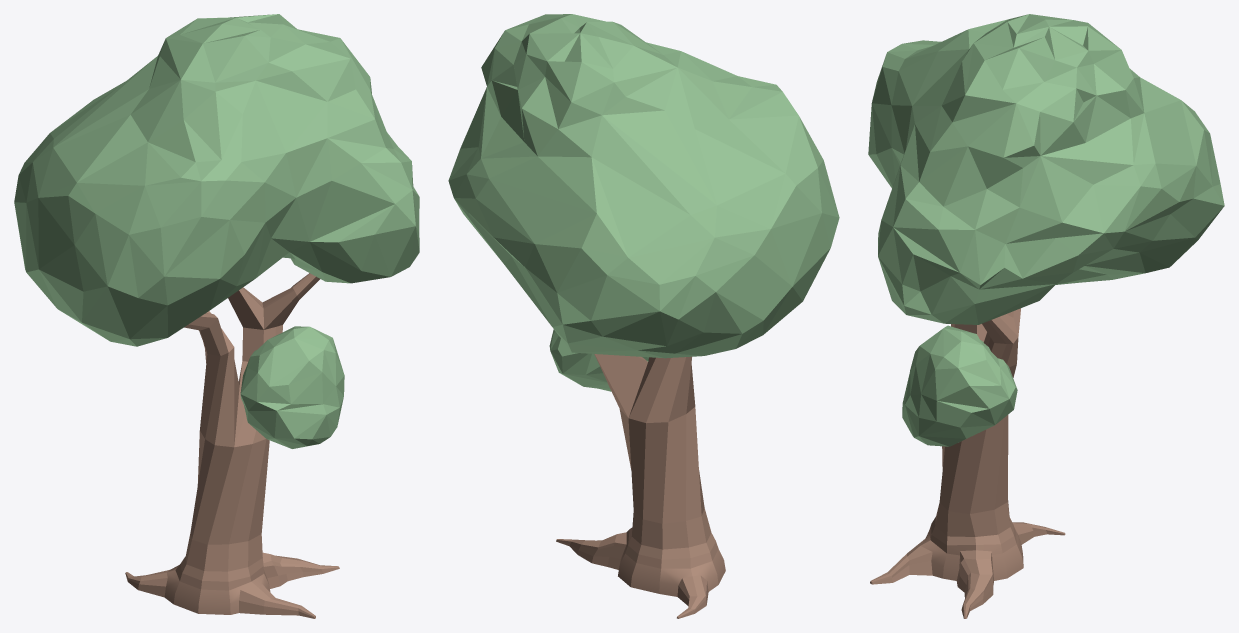
The model's file is Oak_tree.fbx.
3 views of the same model, side by side, from view 1: azimuth 30°, elevation 25°; view 2: azimuth 150°, elevation 25°; view 3: azimuth 270°, elevation 25° (orthographic). The views are drawn at different scales.
Visible parts, largest first — view 1: pSphere1, pasted__pCylinder1, pSphere2; view 2: pSphere1, pasted__pCylinder1, pSphere2; view 3: pSphere1, pasted__pCylinder1, pSphere2.
Boxes of the visible parts, x1=… form: pSphere1: x1=14, y1=14, x2=419, y2=346; pasted__pCylinder1: x1=125, y1=273, x2=339, y2=618; pSphere2: x1=240, y1=326, x2=344, y2=448; pSphere1: x1=448, y1=14, x2=839, y2=358; pasted__pCylinder1: x1=556, y1=354, x2=725, y2=618; pSphere2: x1=549, y1=329, x2=648, y2=391; pSphere1: x1=868, y1=14, x2=1224, y2=324; pasted__pCylinder1: x1=870, y1=308, x2=1065, y2=618; pSphere2: x1=902, y1=325, x2=1017, y2=446.
Bounding box in the file's own units: 4.12 × 6.29 × 3.63.
